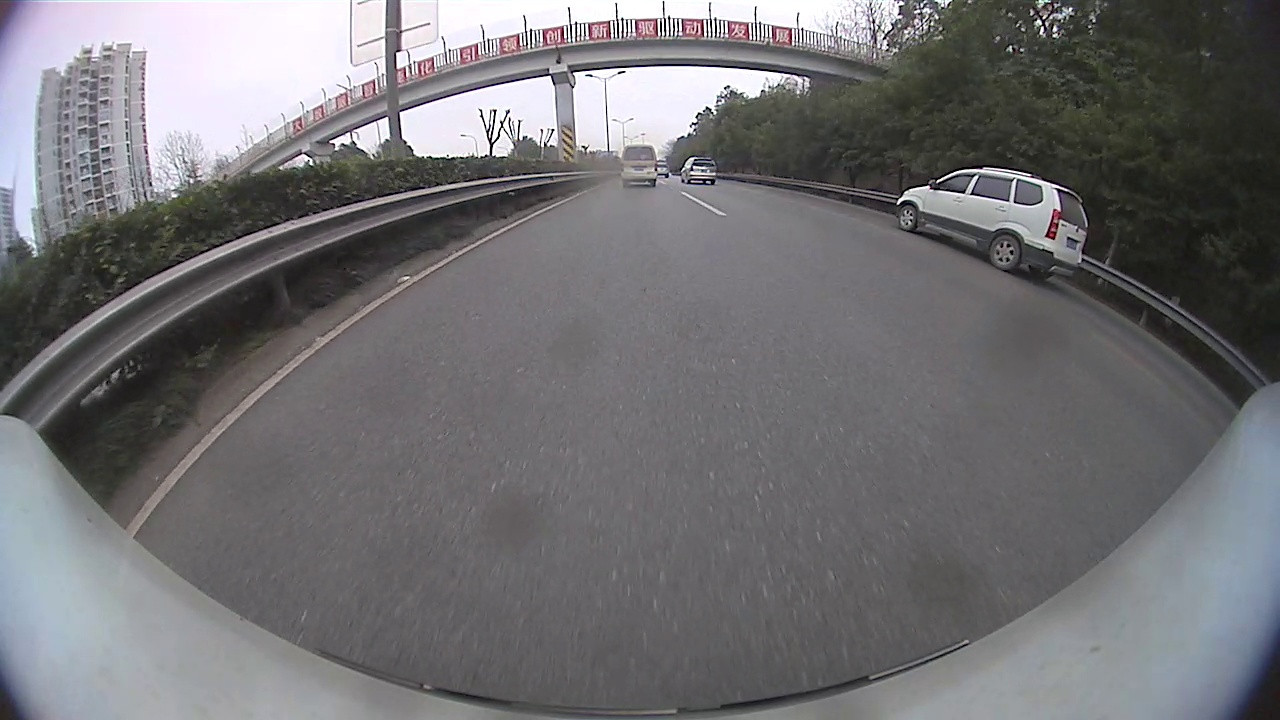car: (893, 164, 1090, 282), (620, 144, 659, 187), (679, 156, 717, 186)
front: (897, 205, 918, 231)
rear: (990, 234, 1021, 271)
